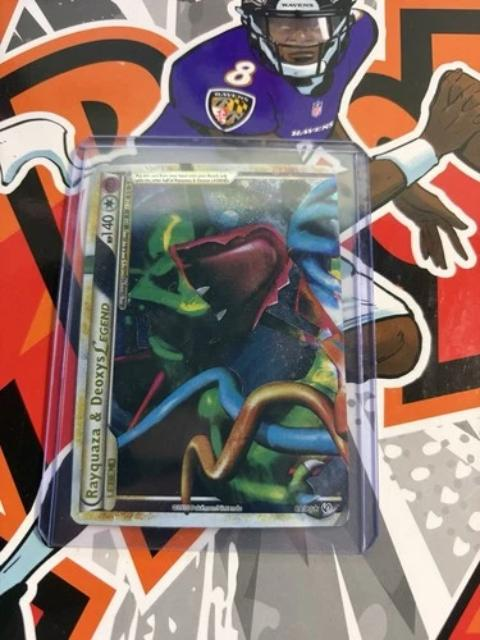Card: (67, 162, 354, 531)
Name: (80, 296, 116, 507)
